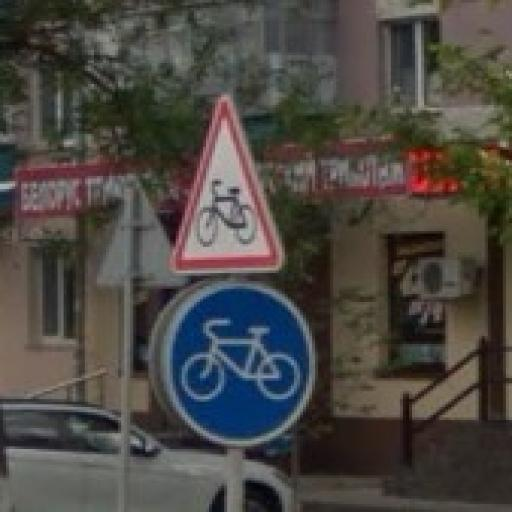traffic_sign: (165, 282, 319, 447), (168, 96, 289, 280)
